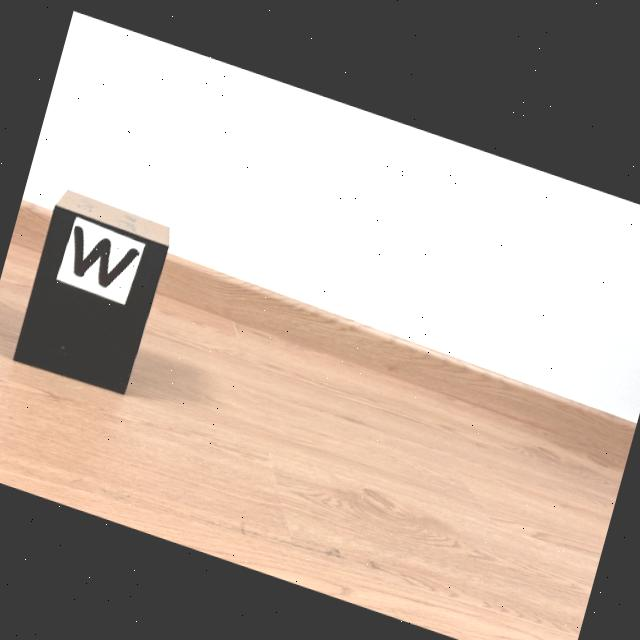W: (73, 225, 138, 286)
